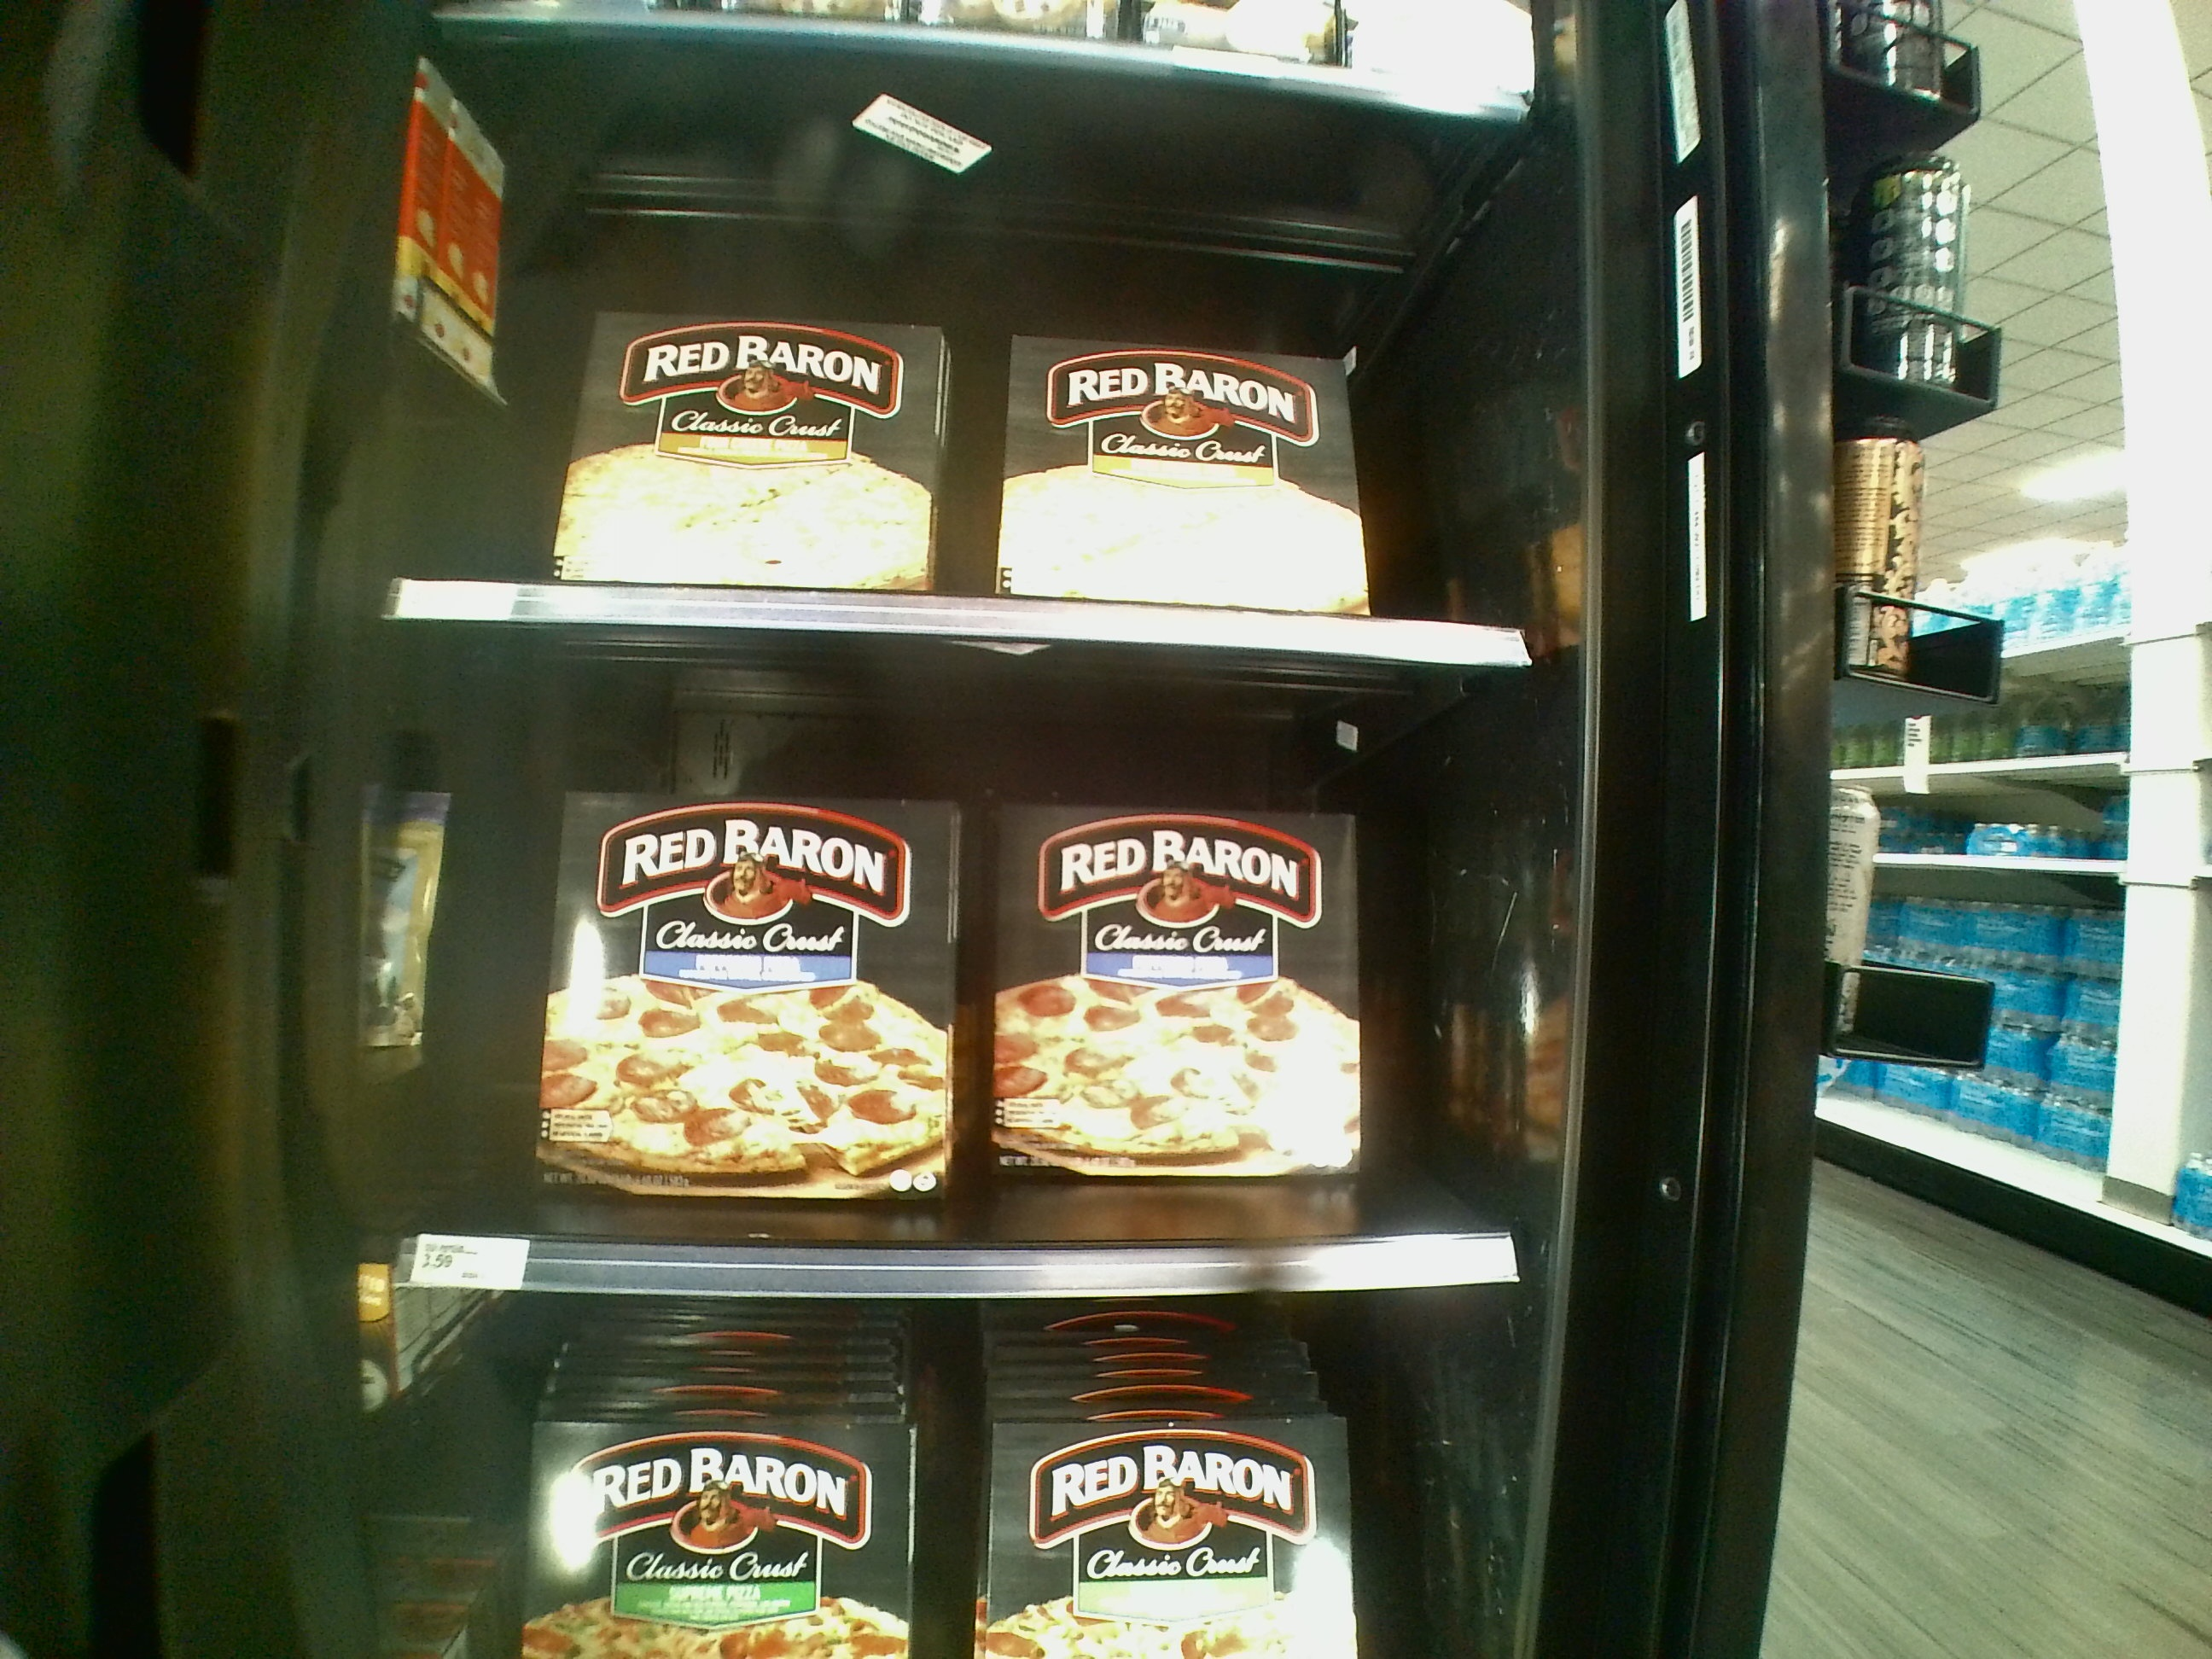shelf: (421, 629, 1545, 1300), (437, 23, 1547, 664)
